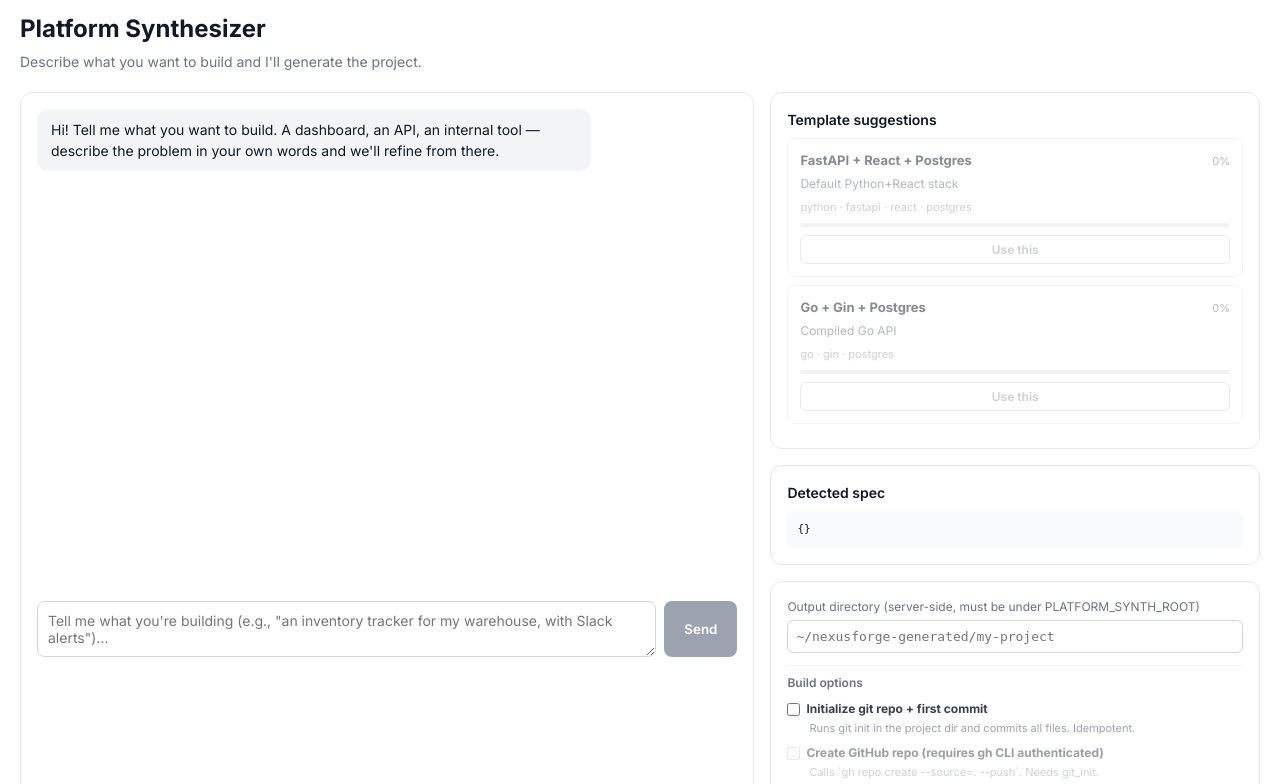
Test: PlatformSynthPage — template selection + build flow › build defaults send all flags as false when no toggles touched
Expected: the text "FastAPI + React + Postgres" is shown, [800, 151, 972, 170]
Replace the text in the text box with placeholder "Tell me what you're building" with "no flags here" at (347, 629), box [37, 601, 656, 657]
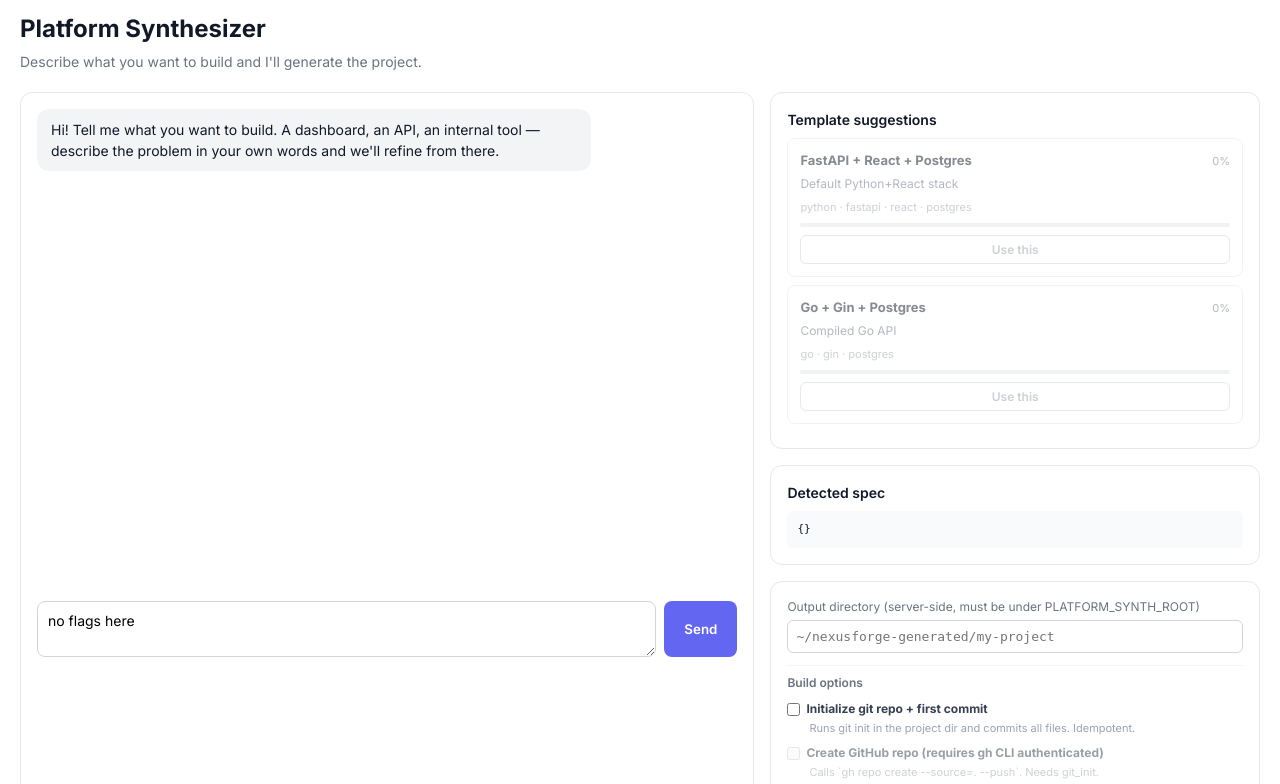
Click the button "Send".
click(701, 629)  # box [664, 601, 737, 657]
(page scrolled)
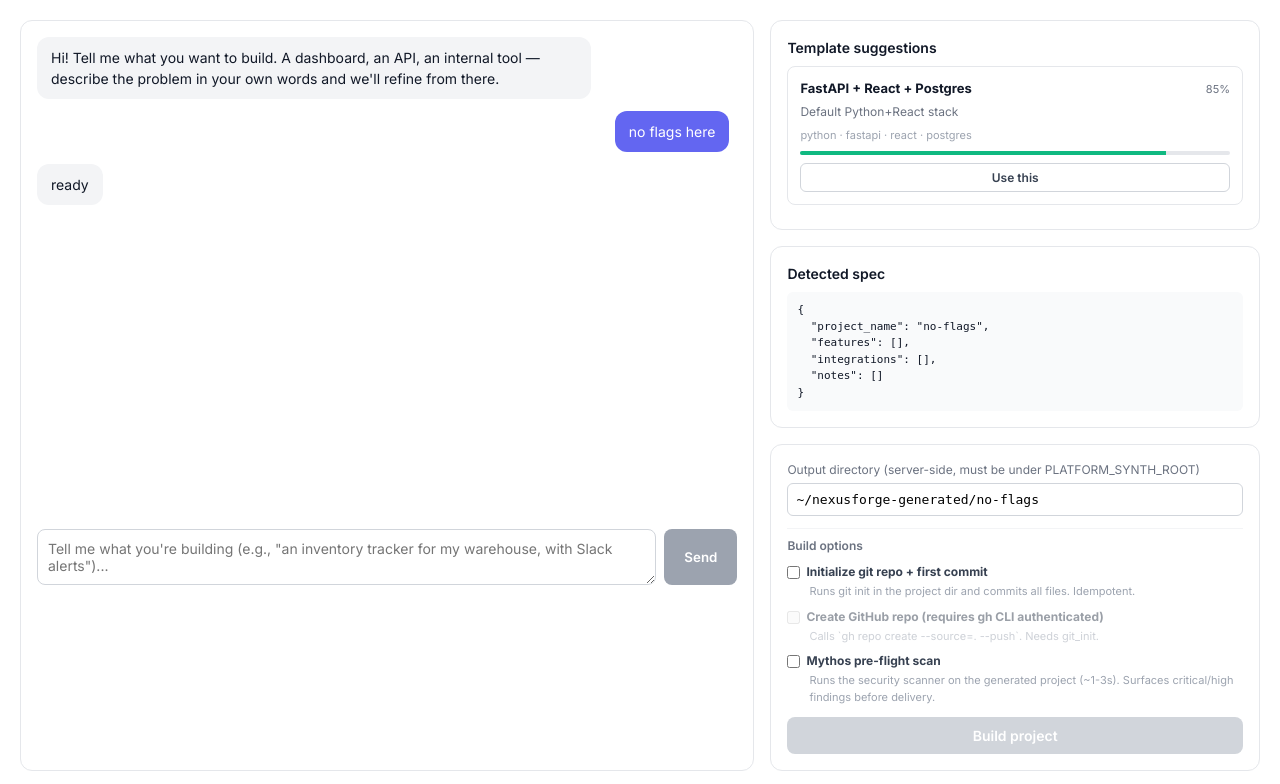
Result: the text "85%" is shown at [1206, 81, 1230, 98]
Click the button "Use this".
click(1015, 178)  # box [800, 163, 1230, 192]
(page scrolled)
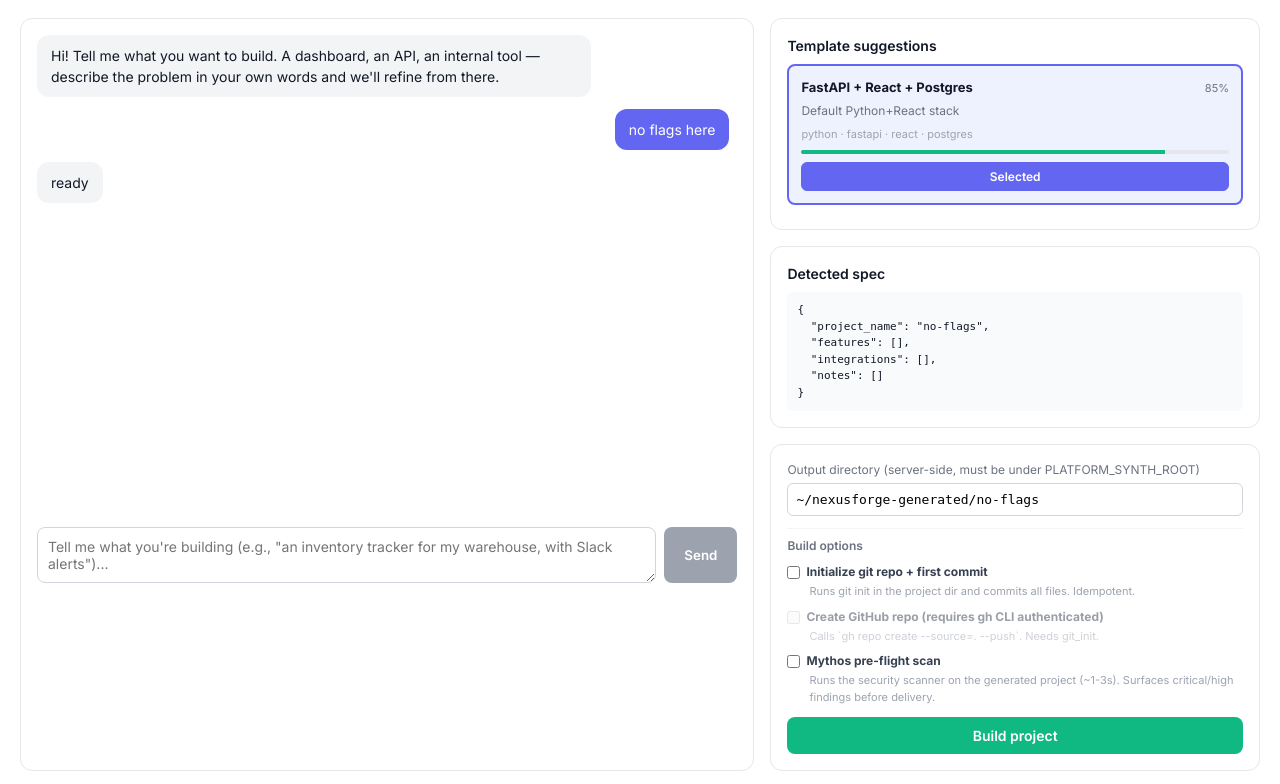
Click the button "Build project".
click(1015, 736)  # box [787, 717, 1243, 754]
(page scrolled)
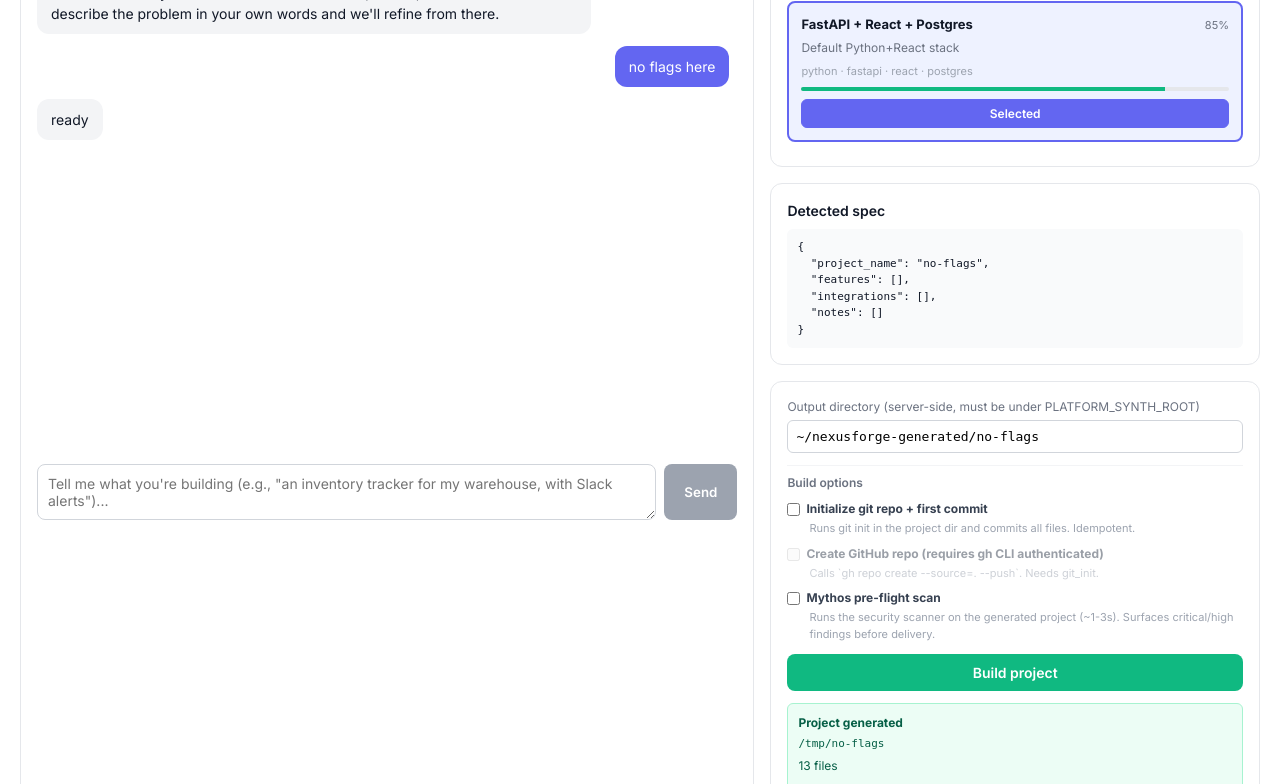
Result: the text "Project generated" is shown at [798, 715, 903, 730]
